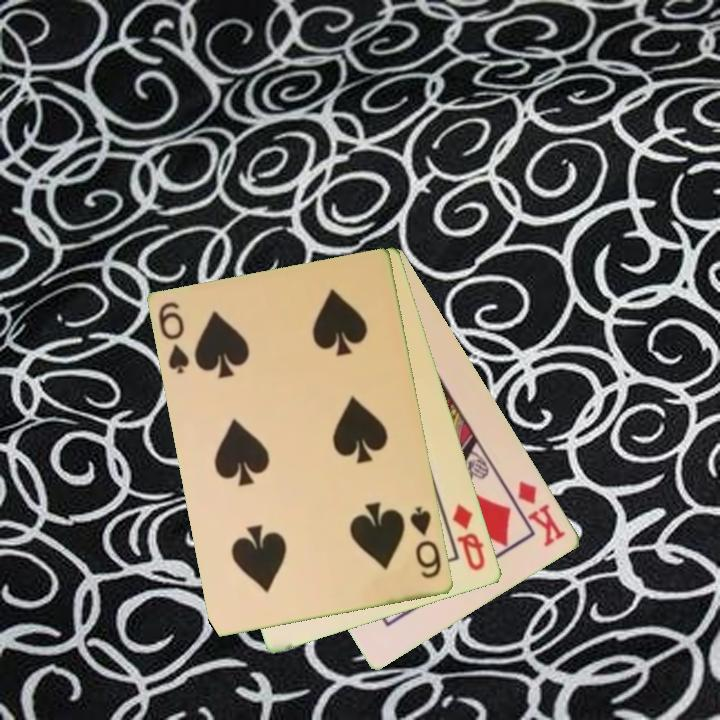6s: (407, 503, 445, 582), (155, 298, 193, 377)
Kd: (514, 477, 569, 550)
Qd: (449, 500, 489, 575)
